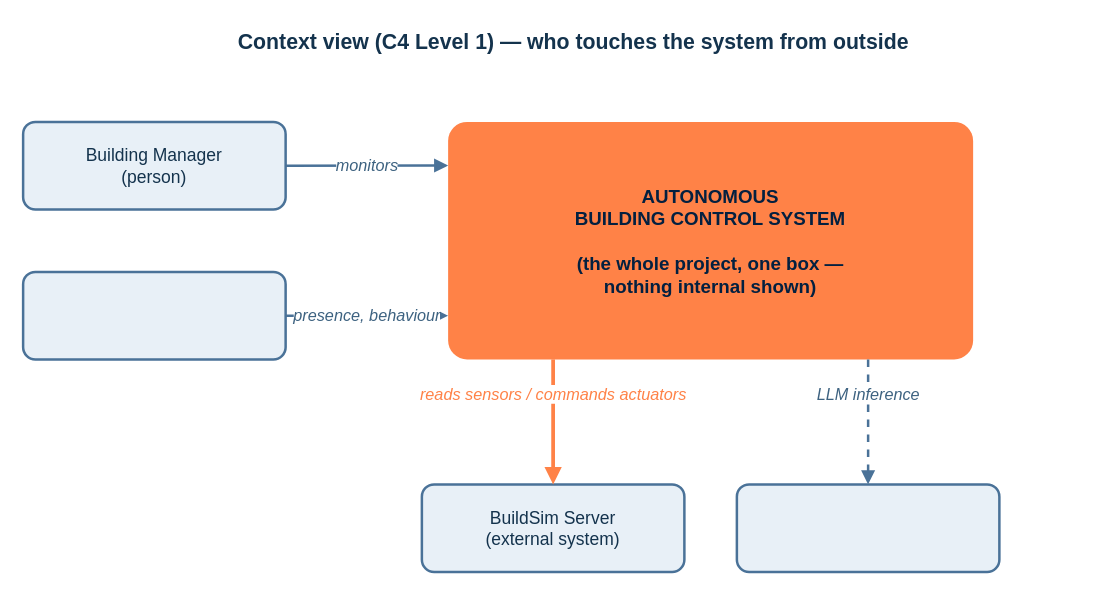
The diagram is 1094 pixels wide and 594 high, and some of its shapes have lost their labels. The centre of each missing label's shape, as x and y in pixels:
Building Occupants (people): (x=153, y=315)
GPU Server (LLM) (external system): (x=867, y=527)
